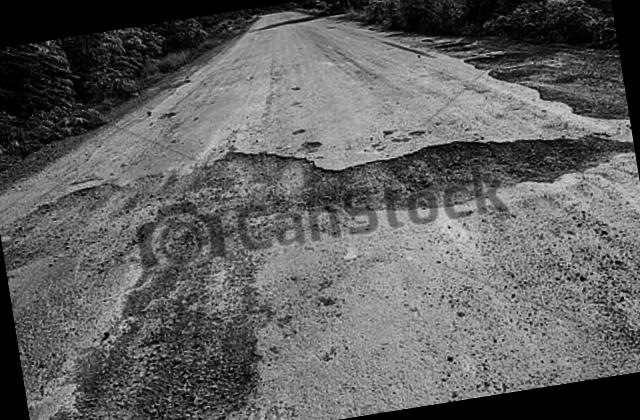Pothole: (0, 62, 640, 420)
